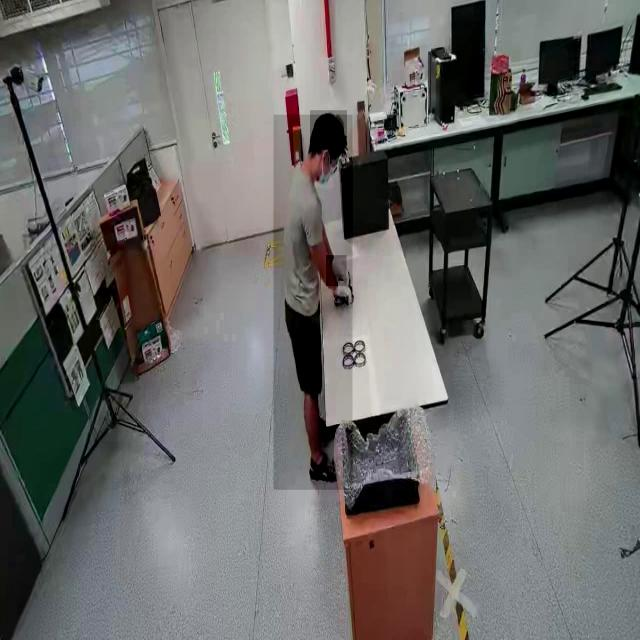face_mask: (312, 150, 334, 188)
hand_glove: (334, 274, 353, 308), (326, 255, 346, 286)
head_nohelmet: (309, 110, 347, 148)
person: (273, 114, 353, 490)
